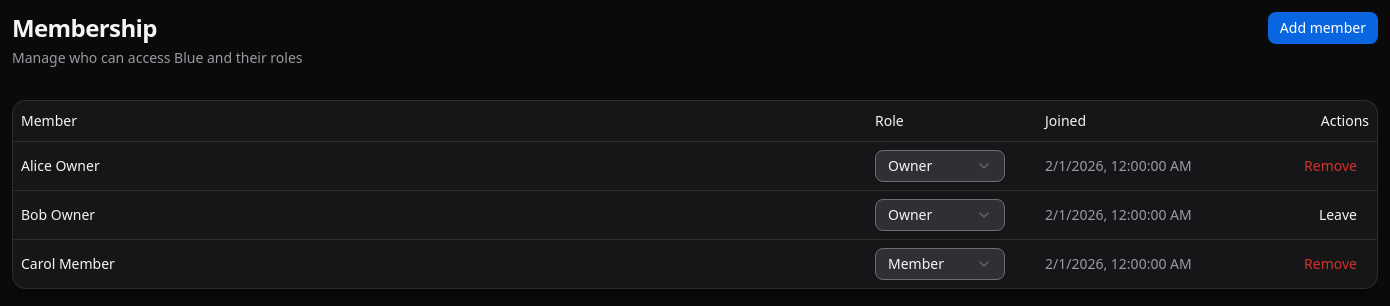
Test: WorkspaceMembershipPage — roster (owner/admin) › changes a member's role through the API
Expected: the text "Carol Member" is shown, [13, 239, 867, 288]
Click the dropdown named "Role for Carol Member" at point(940, 264), box [875, 248, 1005, 280]
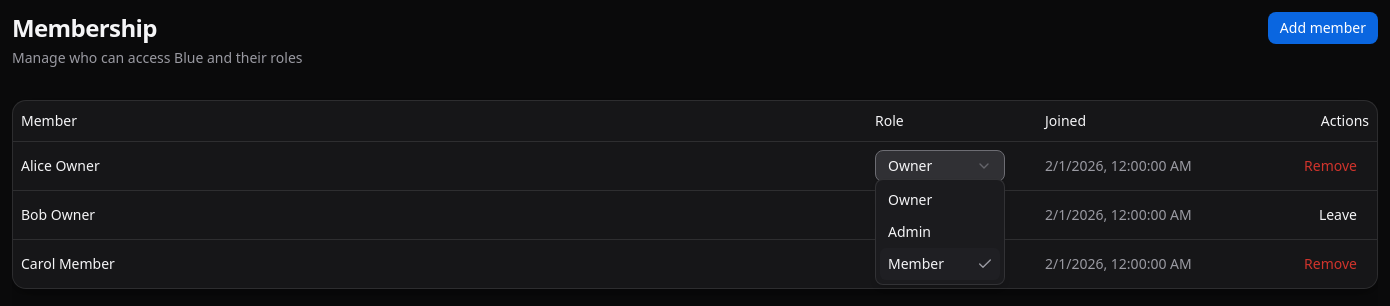
Click the option "Admin" at point(909, 231), box [888, 222, 931, 240]
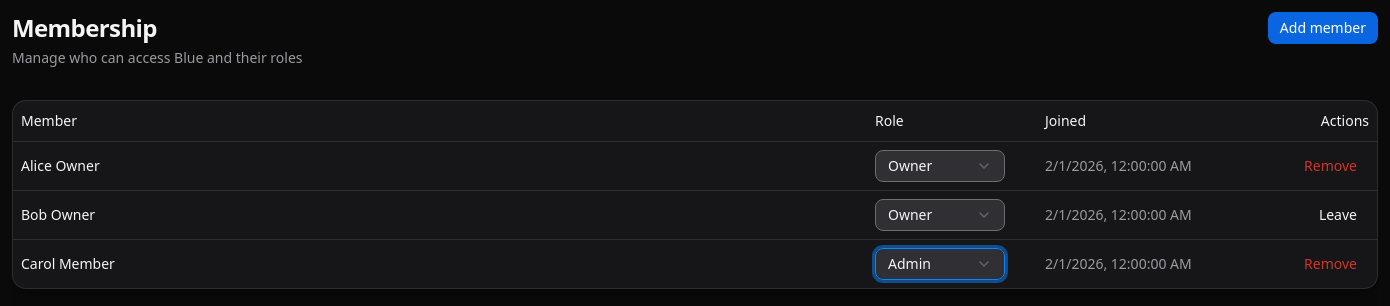
Now the dropdown named "Role for Carol Member" reads "Admin", box [875, 248, 1005, 280]
